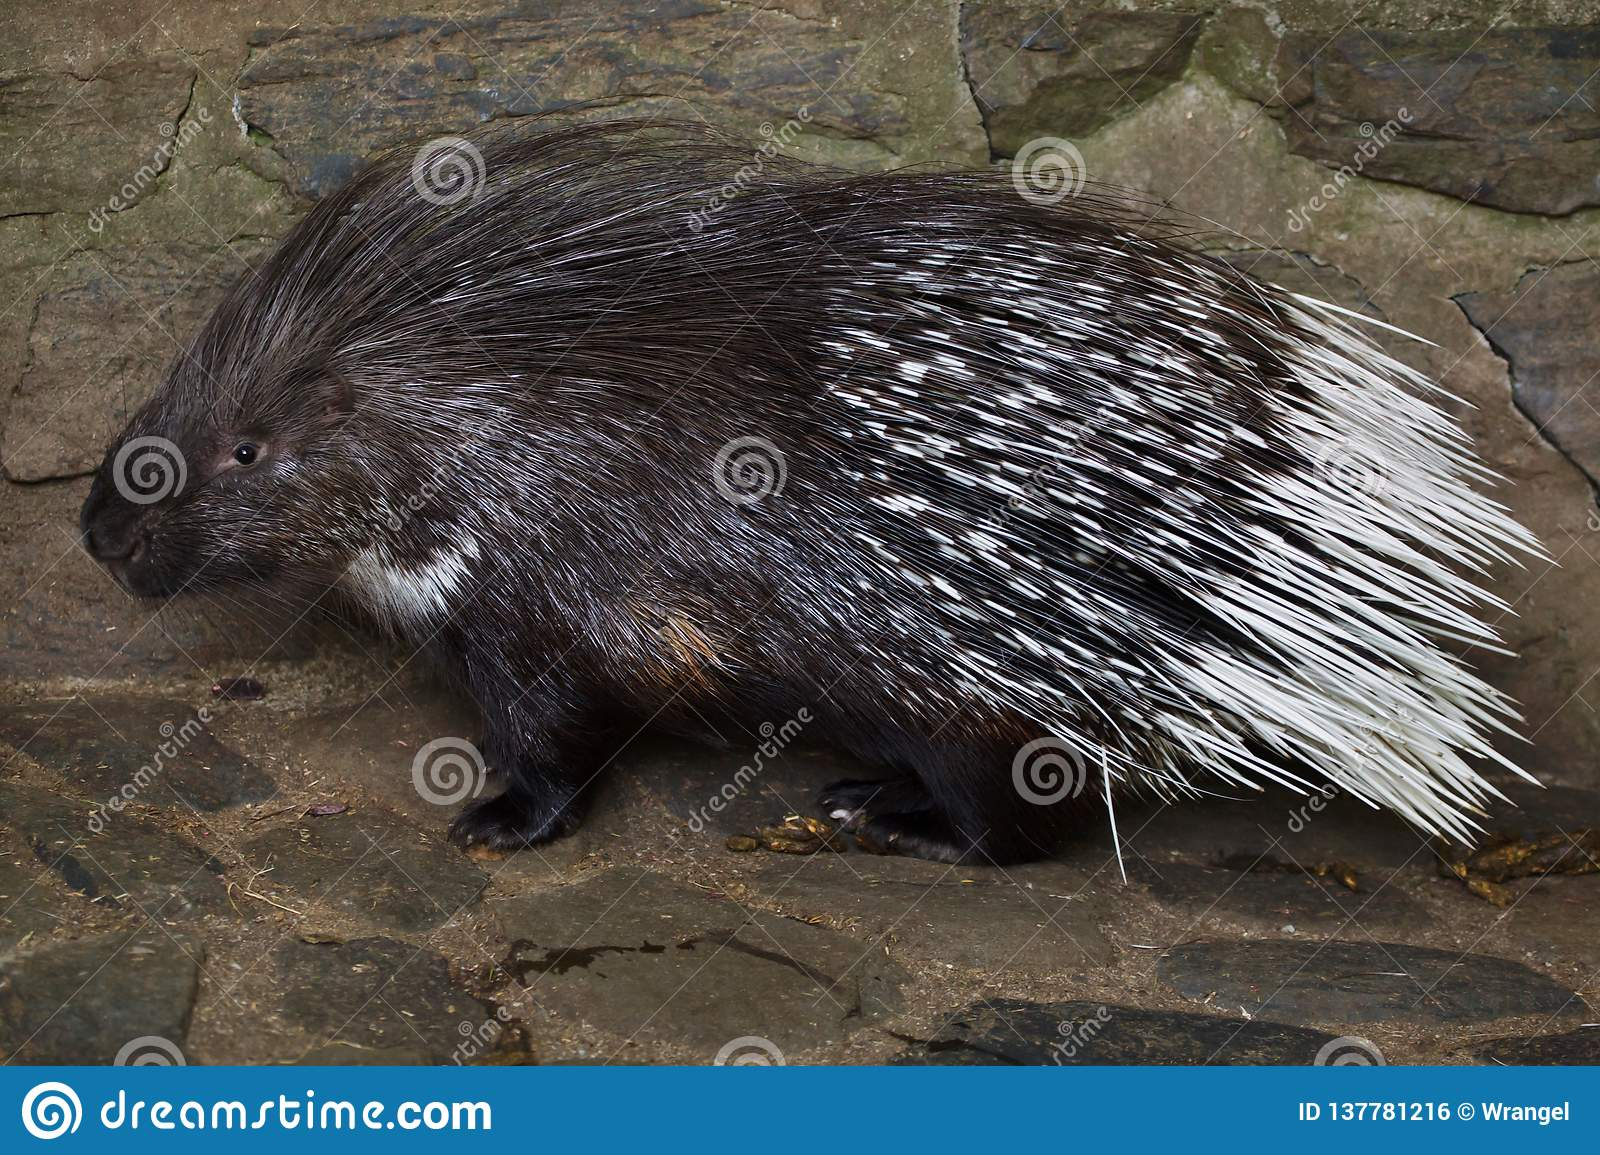porcupine: (62, 111, 1561, 871)
